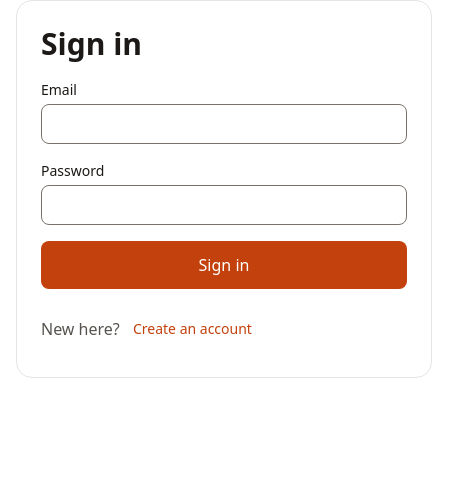
SignInForm › AC6 shows one generic error that does not say which field was wrong
This screenshot has width=449, height=493.
In the field labelled "Email": (224, 124) [41,104,407,144], type "asha@example.com"
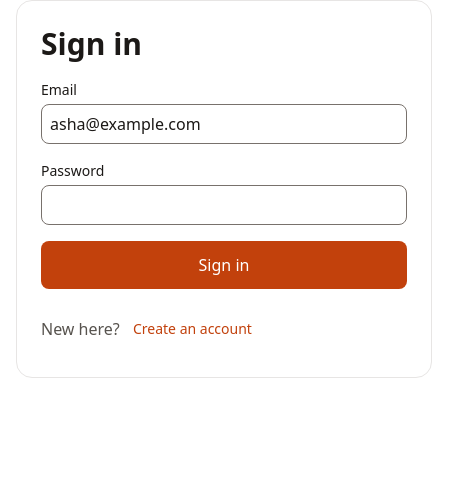
In the password field labelled "Password": (224, 204) [41,184,407,224], type "whatever-1"
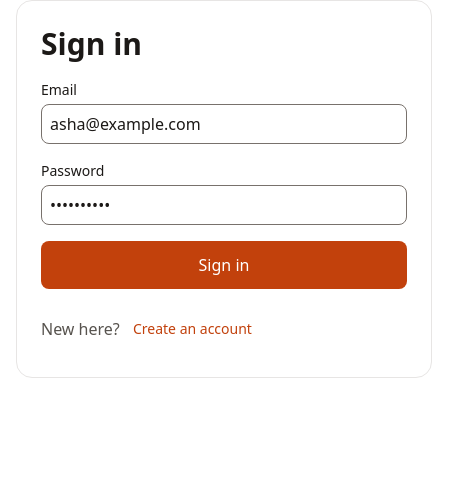
Click the button "Sign in": (224, 264) [41,240,407,288]
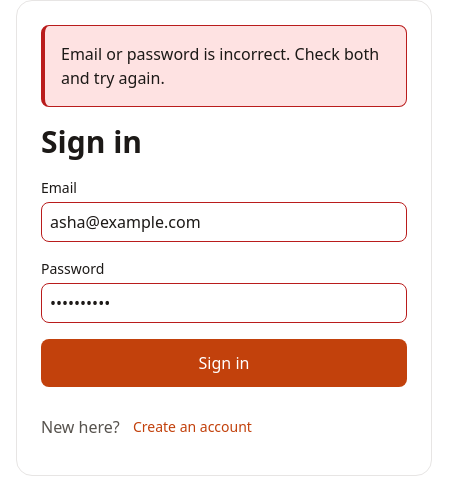
Now the message reads "Email or password is incorrect. Check both and try again.", box [61,43,379,89]
